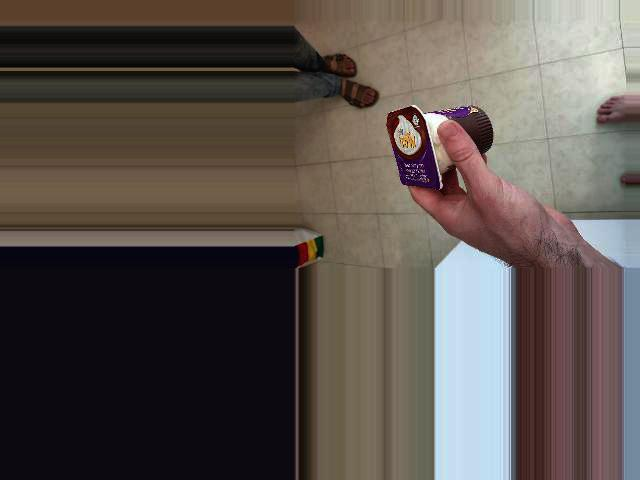milky: (385, 104, 496, 183)
